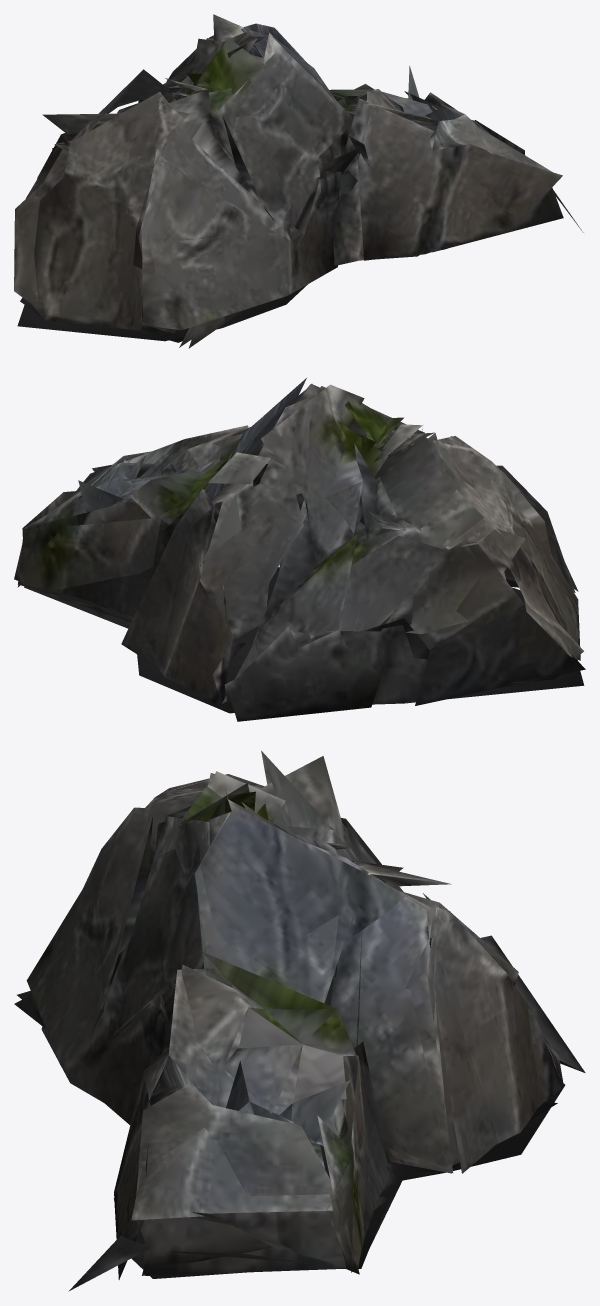
Rendered from rock-3.lod1.glb.
3 renders of one model, top to bottom at view 1: azimuth 30°, elevation 25°; view 2: azimuth 150°, elevation 25°; view 3: azimuth 270°, elevation 25°, orthographic. The views are drawn at different scales.
Visible parts, largest first — view 1: terrain-rock-3; view 2: terrain-rock-3; view 3: terrain-rock-3.
Part boxes in pixels (box(x1,y1,x2,y2)): terrain-rock-3: box(14, 14, 583, 348); terrain-rock-3: box(14, 378, 585, 721); terrain-rock-3: box(14, 750, 585, 1291).
Size of the model in its own units: 0.2447 by 0.1059 by 0.1696.
1 material, 1 textured.
